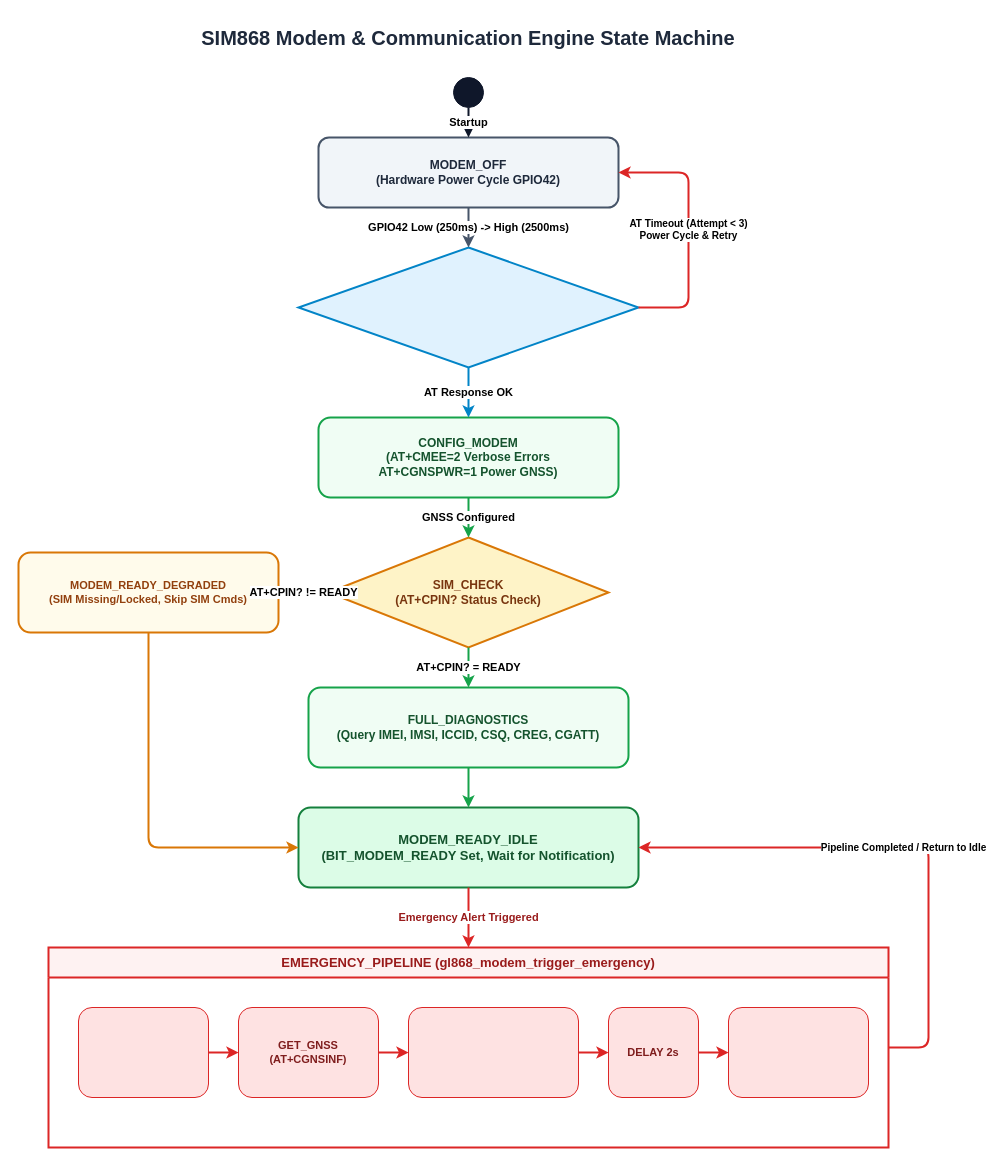
The diagram is 1003 pixels wide and 1165 high, and some of its shapes have lost their labels. Each missing label, with the centre of its shape:
AT_HANDSHAKE (Create UART DTE 115200 Baud, Send AT): pixel 468 307
DIAL_CALL (ATD+916309538622; Poll CPAS/CLCC): pixel 798 1052
SEND_SMS (AT+CMGF=1 -> AT+CMGS -> Prompt > Payload + 0x1A): pixel 493 1052
VERIFY_SIM (AT+CPIN?): pixel 143 1052
